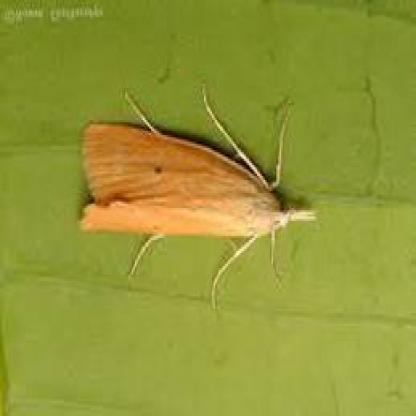stem-borer: (78, 90, 318, 307)
